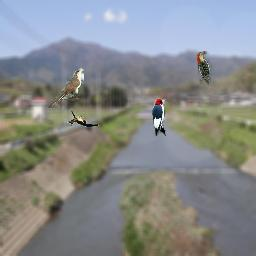Cuckoo: (48, 68, 84, 108)
Swallow: (60, 108, 100, 128)
Woodpecker: (197, 51, 216, 91), (152, 97, 166, 137)
